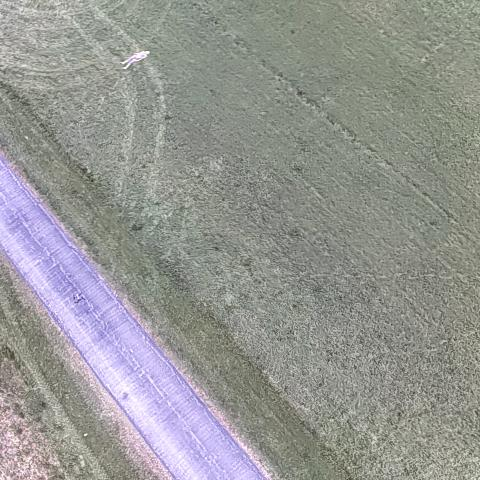person: (121, 49, 150, 70)
